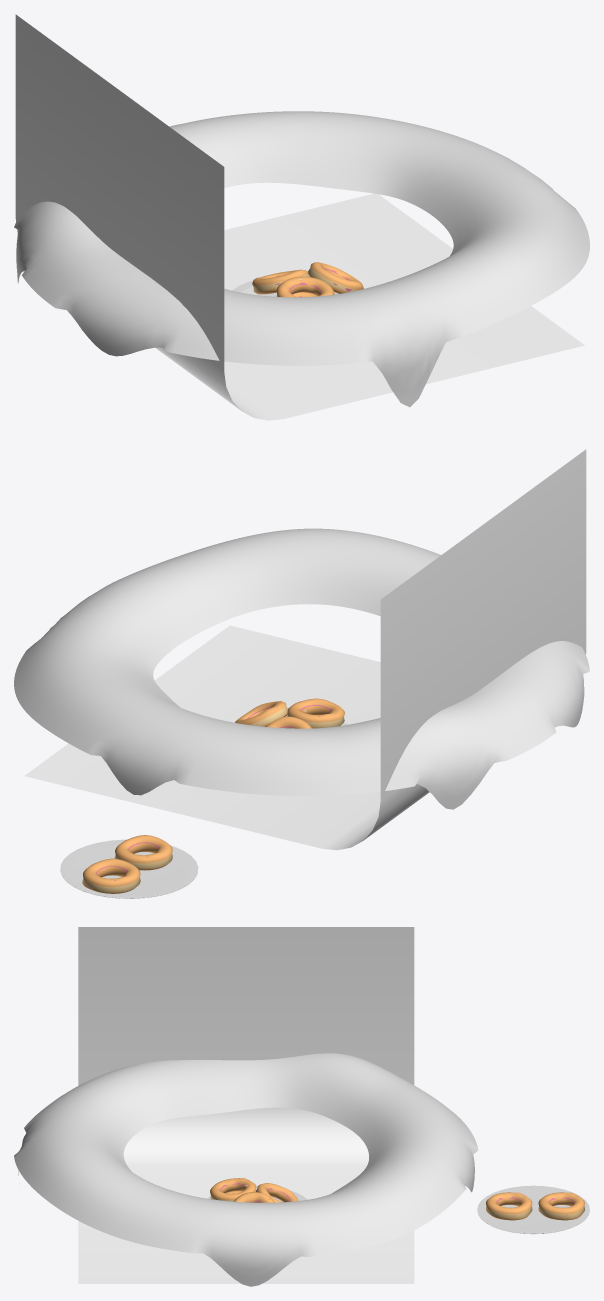
Rendered from Donut.glb.
3 renders of one model, top to bottom at view 1: azimuth 30°, elevation 25°; view 2: azimuth 150°, elevation 25°; view 3: azimuth 270°, elevation 25°, orthographic. The views are drawn at different scales.
Parts seen in each view (by area): view 1: Torus.002, Plane, Base donut.001, Base donut.004, Base donut.005; view 2: Torus.002, Plane, Cylinder.004, Base donut.003, Base donut.002, Base donut.004, Base donut.001; view 3: Plane, Torus.002, Cylinder.004, Base donut.003, Base donut.002, Base donut.004, Base donut.005.
Boxes of the visible parts, left/top/right/bottom form: Torus.002: left=14, top=111, right=589, bottom=407; Plane: left=15, top=14, right=584, bottom=420; Base donut.001: left=307, top=262, right=363, bottom=293; Base donut.004: left=276, top=276, right=334, bottom=297; Base donut.005: left=252, top=269, right=308, bottom=294; Torus.002: left=14, top=528, right=589, bottom=809; Plane: left=24, top=449, right=586, bottom=850; Cylinder.004: left=60, top=839, right=198, bottom=898; Base donut.003: left=82, top=858, right=140, bottom=893; Base donut.002: left=114, top=835, right=172, bottom=870; Base donut.004: left=287, top=698, right=344, bottom=728; Base donut.001: left=235, top=701, right=287, bottom=726; Plane: left=78, top=927, right=414, bottom=1283; Torus.002: left=14, top=1053, right=478, bottom=1286; Cylinder.004: left=477, top=1185, right=589, bottom=1234; Base donut.003: left=538, top=1192, right=584, bottom=1220; Base donut.002: left=486, top=1192, right=532, bottom=1220; Base donut.004: left=210, top=1178, right=256, bottom=1201; Base donut.005: left=256, top=1183, right=298, bottom=1202.
Bounding box in the file's own units: 1.81 × 0.9331 × 2.26.
5 materials, 1 textured.
